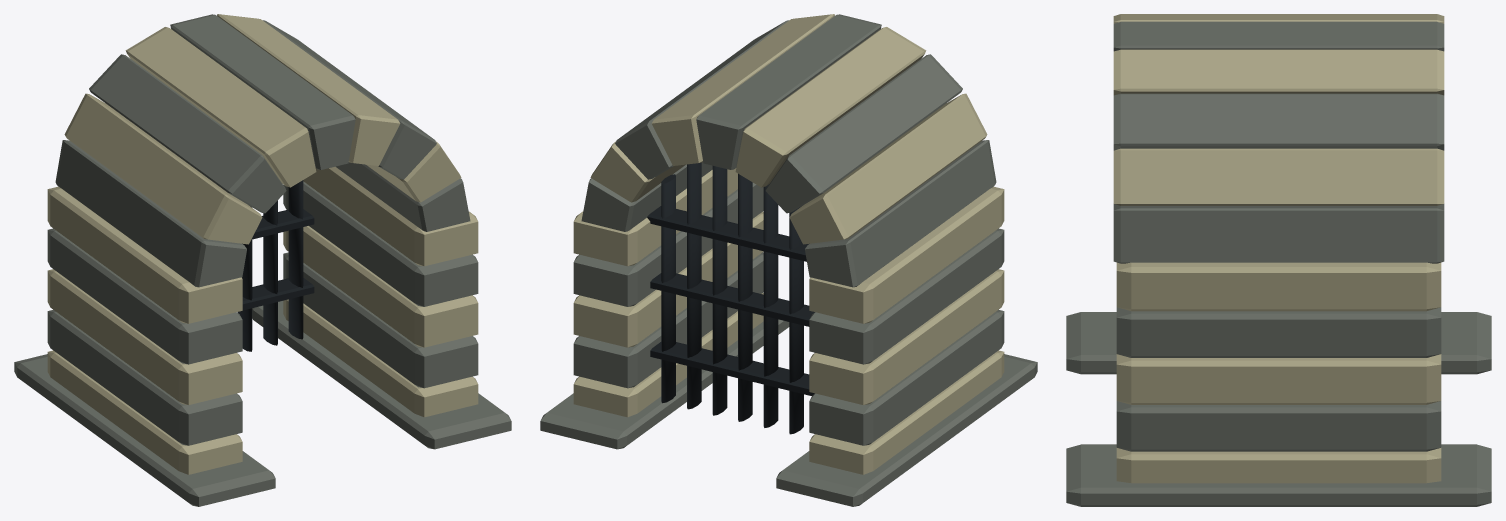
The model's file is gate.obj.
The picture shows the model from 3 angles, left to right: view 1: azimuth 30°, elevation 25°; view 2: azimuth 150°, elevation 25°; view 3: azimuth 270°, elevation 25°; orthographic projection. The views are drawn at different scales.
Parts seen in each view (by area): view 1: gate; view 2: gate; view 3: gate.
Boxes of the visible parts, left/top/right/bottom form: gate: left=14, top=14, right=511, bottom=506; gate: left=540, top=14, right=1037, bottom=506; gate: left=1066, top=14, right=1491, bottom=506.
Bounding box in the file's own units: 1 × 1 × 1.
